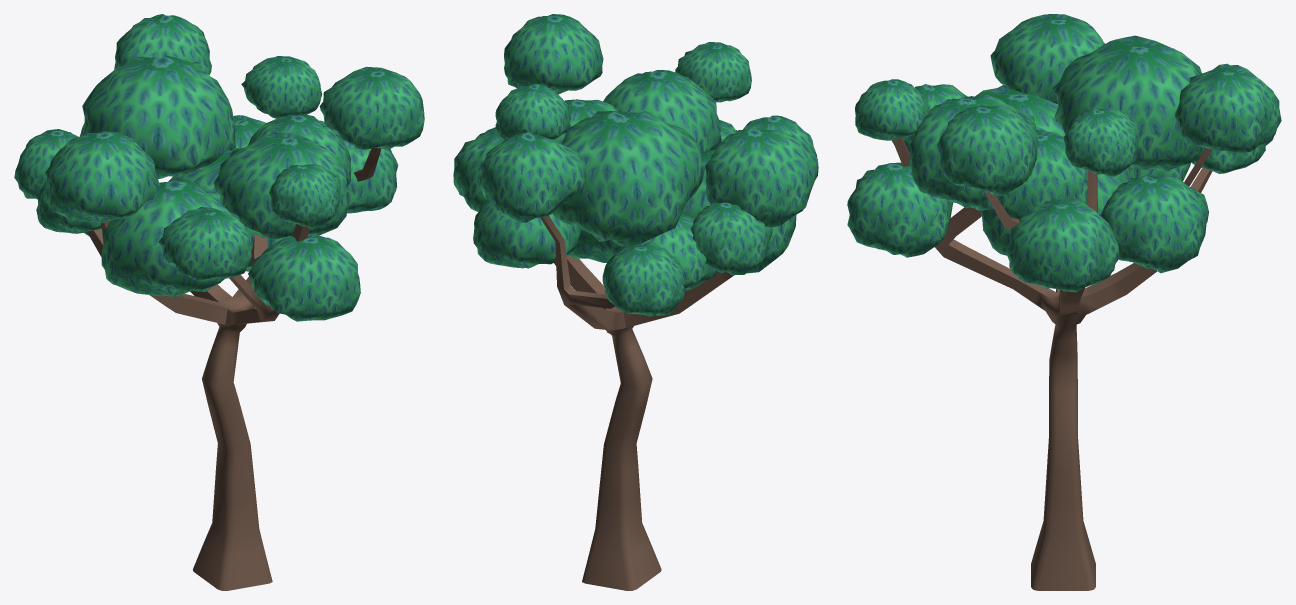
The model's file is BaumKlein.fbx.
The picture shows the model from 3 angles, left to right: view 1: azimuth 30°, elevation 25°; view 2: azimuth 150°, elevation 25°; view 3: azimuth 270°, elevation 25°; orthographic projection. The views are drawn at different scales.
Visible parts, largest first — view 1: BaumKlein; view 2: BaumKlein; view 3: BaumKlein.
Part boxes in pixels (<box>): BaumKlein: <box>14,14,424,590</box>; BaumKlein: <box>453,14,818,590</box>; BaumKlein: <box>847,14,1281,590</box>.
Size of the model in its own units: 1410 by 1990 by 1500.
